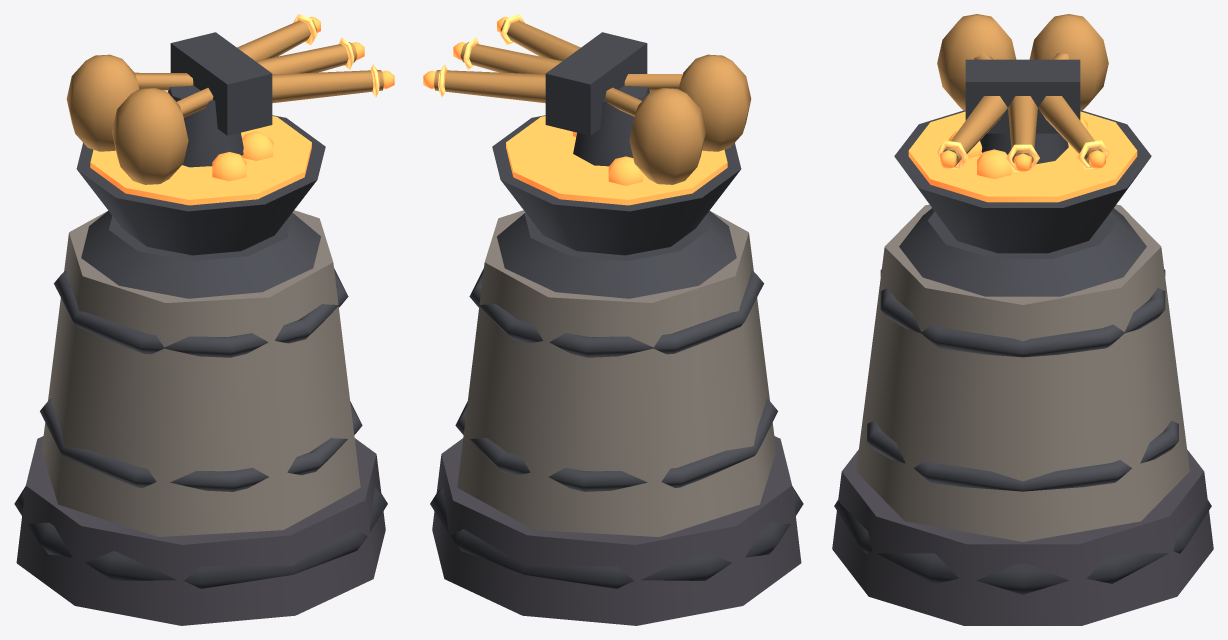
Rendered from tower_flame_wildfire.glb.
3 renders of one model, left to right at view 1: azimuth 30°, elevation 25°; view 2: azimuth 150°, elevation 25°; view 3: azimuth 270°, elevation 25°, orthographic.
Visible parts, largest first — view 1: body, base, brazier_foot, brazier_bowl, coals, manifold, gas_tank_0, soot_ring, body_band_0.3, body_band_0.15, gas_tank_1, nozzle_2 (+7 smaller); view 2: body, base, brazier_foot, brazier_bowl, coals, manifold, gas_tank_1, soot_ring, body_band_0.3, body_band_0.15, gas_tank_0, nozzle_post (+6 smaller); view 3: body, base, brazier_foot, brazier_bowl, coals, body_band_0.3, soot_ring, manifold, body_band_0.15, gas_tank_0, gas_tank_1, nozzle_0 (+4 smaller).
Boxes of the visible parts, left/top/right/bottom form: body: left=41, top=210, right=360, bottom=536; base: left=16, top=436, right=385, bottom=625; brazier_foot: left=81, top=211, right=320, bottom=298; brazier_bowl: left=76, top=115, right=325, bottom=255; coals: left=90, top=116, right=311, bottom=205; manifold: left=170, top=32, right=272, bottom=135; gas_tank_0: left=112, top=88, right=188, bottom=184; soot_ring: left=14, top=486, right=387, bottom=588; body_band_0.3: left=54, top=268, right=348, bottom=357; body_band_0.15: left=40, top=398, right=362, bottom=491; gas_tank_1: left=66, top=54, right=139, bottom=151; nozzle_2: left=272, top=70, right=383, bottom=103; body: left=457, top=210, right=776, bottom=536; base: left=432, top=436, right=801, bottom=625; brazier_foot: left=497, top=211, right=736, bottom=298; brazier_bowl: left=492, top=115, right=741, bottom=255; coals: left=506, top=116, right=727, bottom=205; manifold: left=545, top=32, right=647, bottom=135; gas_tank_1: left=629, top=88, right=705, bottom=184; soot_ring: left=430, top=486, right=803, bottom=588; body_band_0.3: left=469, top=268, right=763, bottom=357; body_band_0.15: left=455, top=398, right=777, bottom=491; gas_tank_0: left=678, top=54, right=751, bottom=151; nozzle_post: left=573, top=85, right=649, bottom=166; body: left=856, top=204, right=1189, bottom=541; base: left=832, top=450, right=1213, bottom=625; brazier_foot: left=899, top=208, right=1146, bottom=296; brazier_bowl: left=894, top=110, right=1151, bottom=253; coals: left=908, top=111, right=1137, bottom=202; body_band_0.3: left=880, top=269, right=1165, bottom=357; soot_ring: left=834, top=500, right=1211, bottom=594; manifold: left=965, top=59, right=1080, bottom=133; body_band_0.15: left=867, top=420, right=1178, bottom=491; gas_tank_0: left=937, top=14, right=1016, bottom=110; gas_tank_1: left=1029, top=14, right=1108, bottom=110; nozzle_0: left=1038, top=96, right=1102, bottom=166.
Size of the model in its own units: 0.396 by 0.5746 by 0.4.
